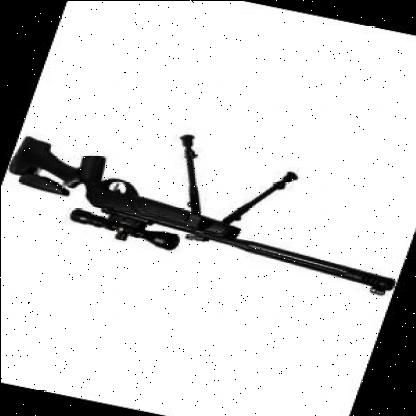rifle: (0, 134, 416, 304)
